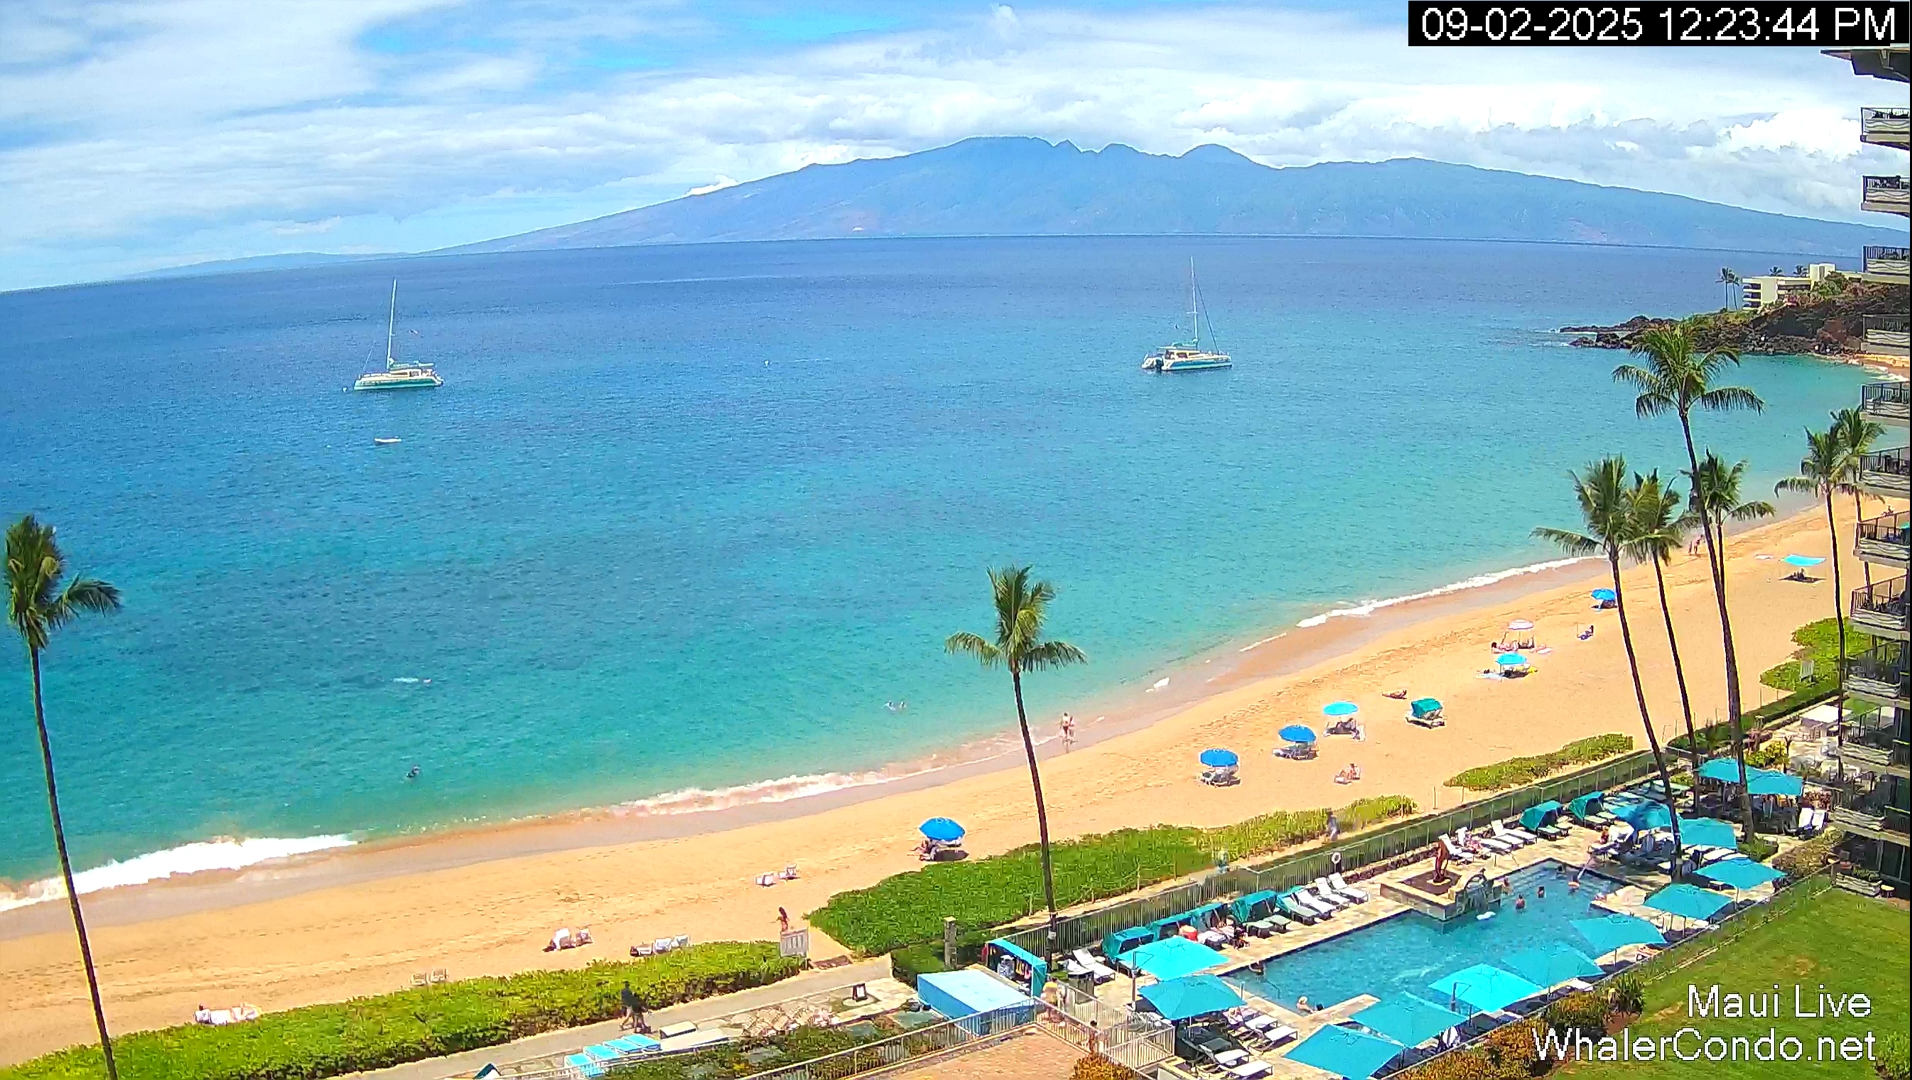boat: (1141, 256, 1233, 372), (353, 278, 445, 392), (374, 436, 402, 445)
person: (630, 993, 649, 1034), (619, 981, 634, 1029), (1088, 1020, 1101, 1053), (1326, 809, 1339, 841), (631, 993, 640, 1033), (777, 906, 790, 933), (1688, 534, 1703, 555), (1060, 712, 1070, 741), (1067, 714, 1076, 743), (1693, 535, 1701, 555), (1515, 894, 1525, 910), (1537, 886, 1545, 898)
